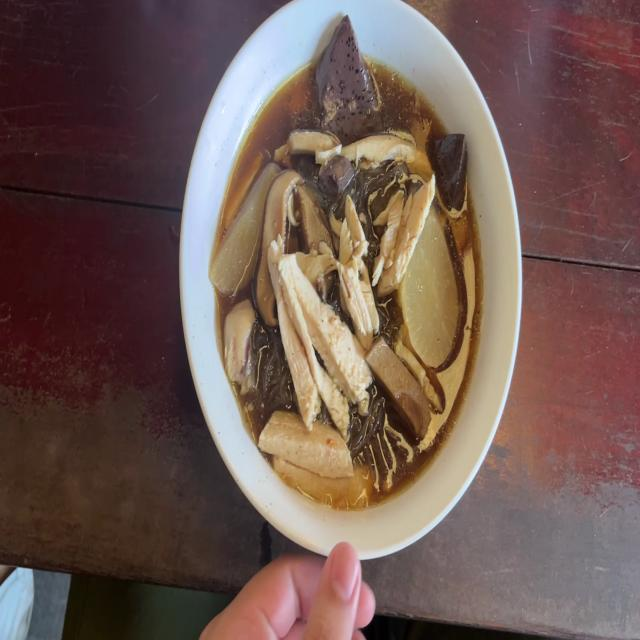noodle: (315, 20, 373, 136), (428, 126, 469, 207), (321, 156, 353, 203)
